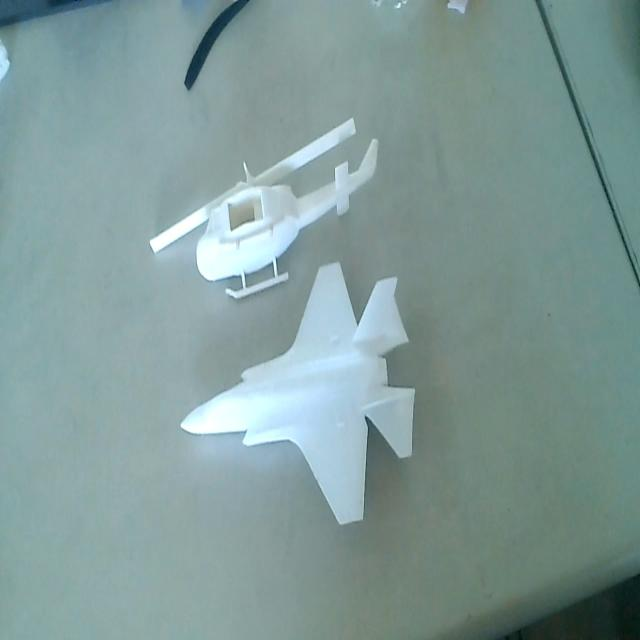Helicopter: (147, 111, 379, 302)
Jet: (177, 261, 416, 530)
